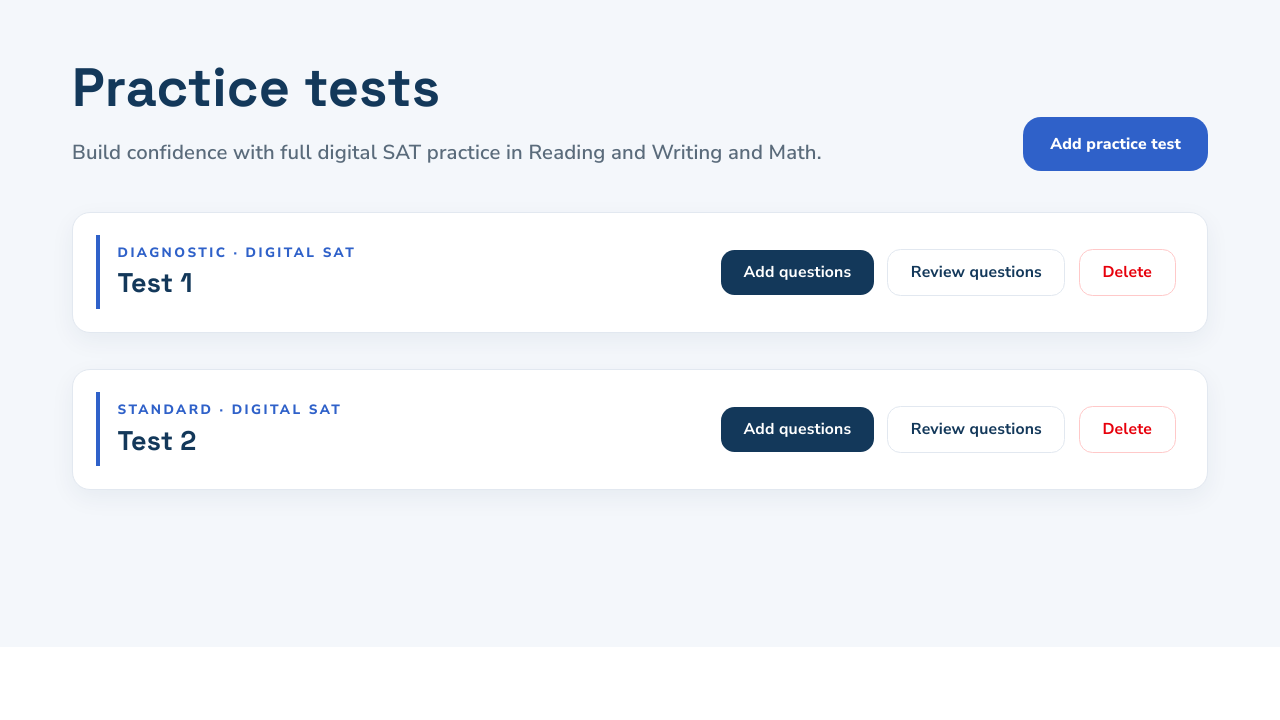
Scenario: PracticeTestsList › asks teacher to confirm before deleting
Expected: the heading "Test 1" is shown, top-left (118, 266), bottom-right (193, 300)
Click the button "Delete" in the row of "diagnostic".
click(1127, 272)  # box top-left (1079, 249), bottom-right (1176, 296)
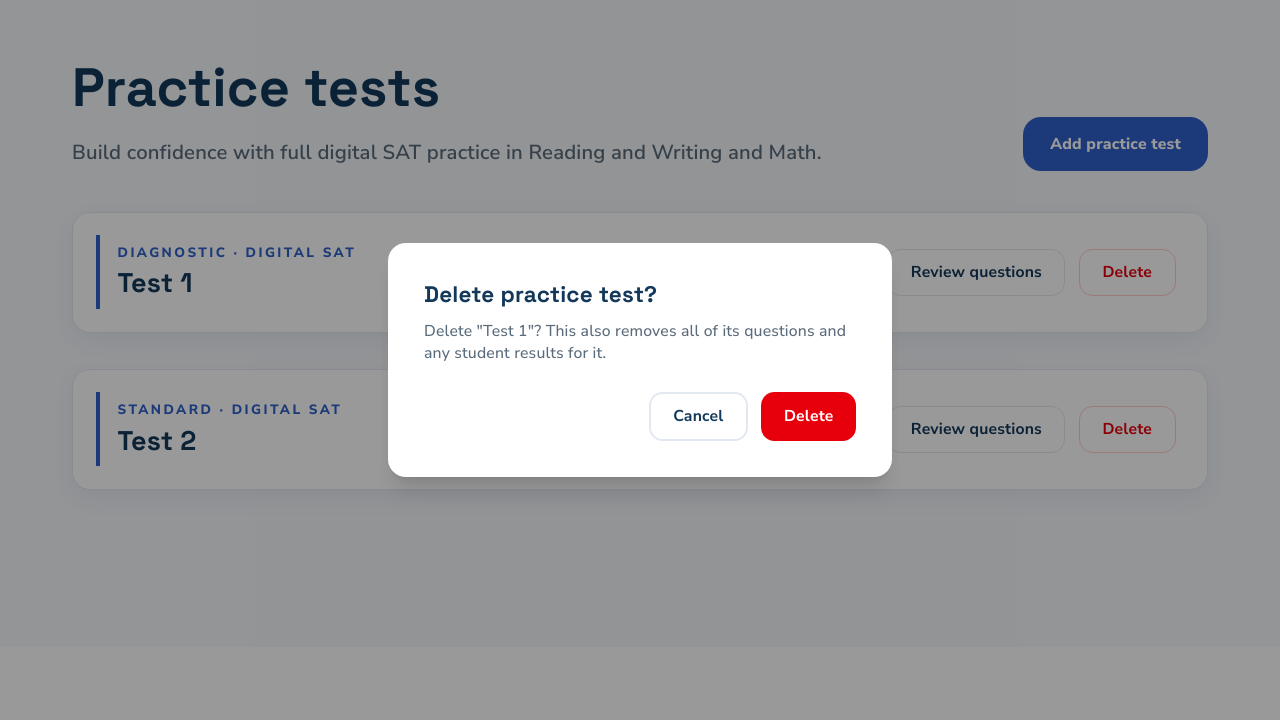
Result: the text "Delete \"Test 1\"? This also removes all of its questions and any student results for it." is shown at top-left (424, 320), bottom-right (846, 364)
